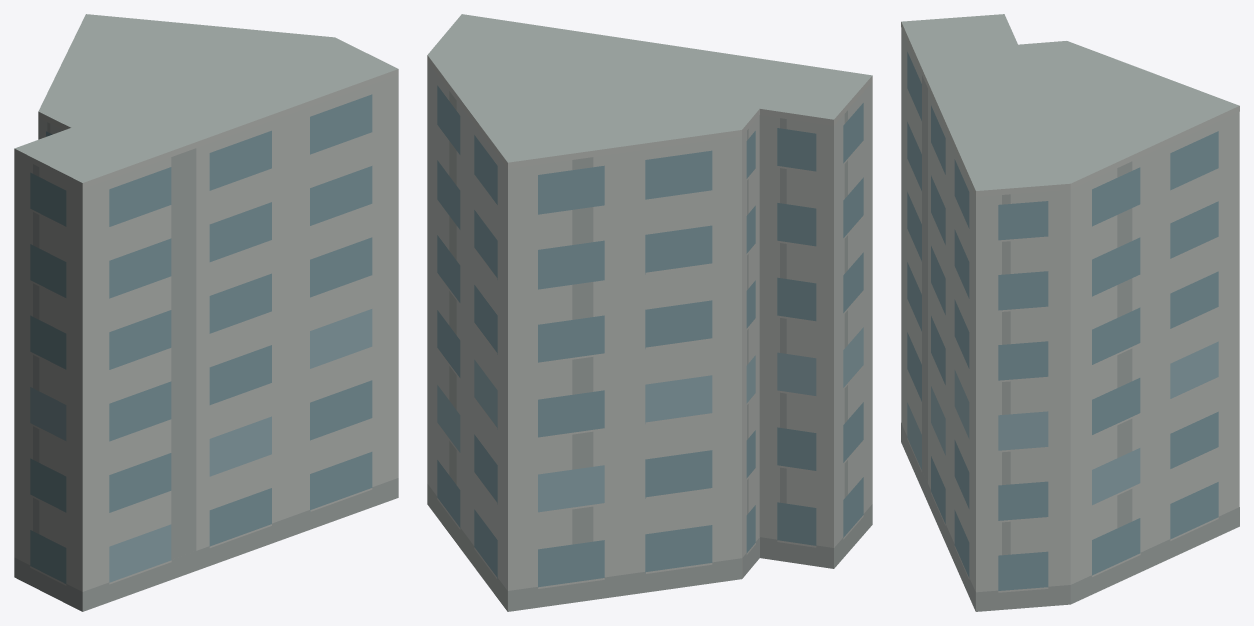
The model's file is survey-upis-32963503.glb.
3 views of the same model, side by side, from view 1: azimuth 30°, elevation 25°; view 2: azimuth 150°, elevation 25°; view 3: azimuth 270°, elevation 25° (orthographic). The views are drawn at different scales.
Parts seen in each view (by area): view 1: survey-upis-32963503.tmp; view 2: survey-upis-32963503.tmp; view 3: survey-upis-32963503.tmp.
Part boxes in pixels (x1,y1,x2,y2): survey-upis-32963503.tmp: (14,14,398,611); survey-upis-32963503.tmp: (427,14,872,611); survey-upis-32963503.tmp: (901,14,1239,611).
Bounding box in the file's own units: 15.53 × 17.2 × 12.55.
